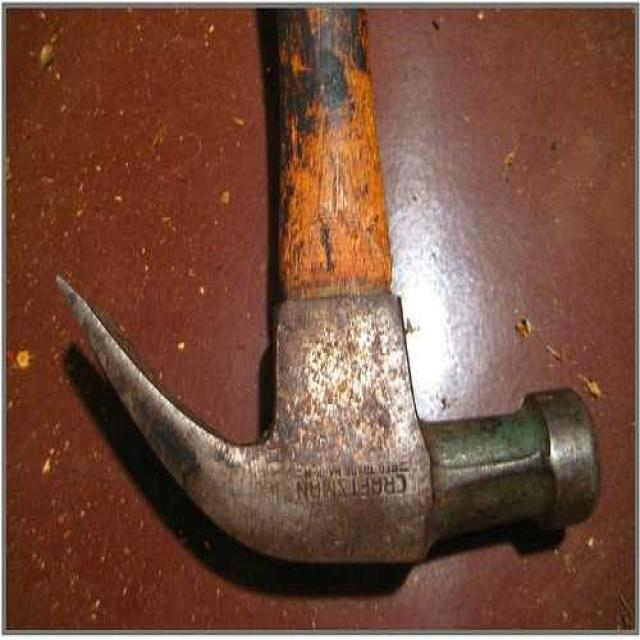hammer: (57, 0, 601, 564)
